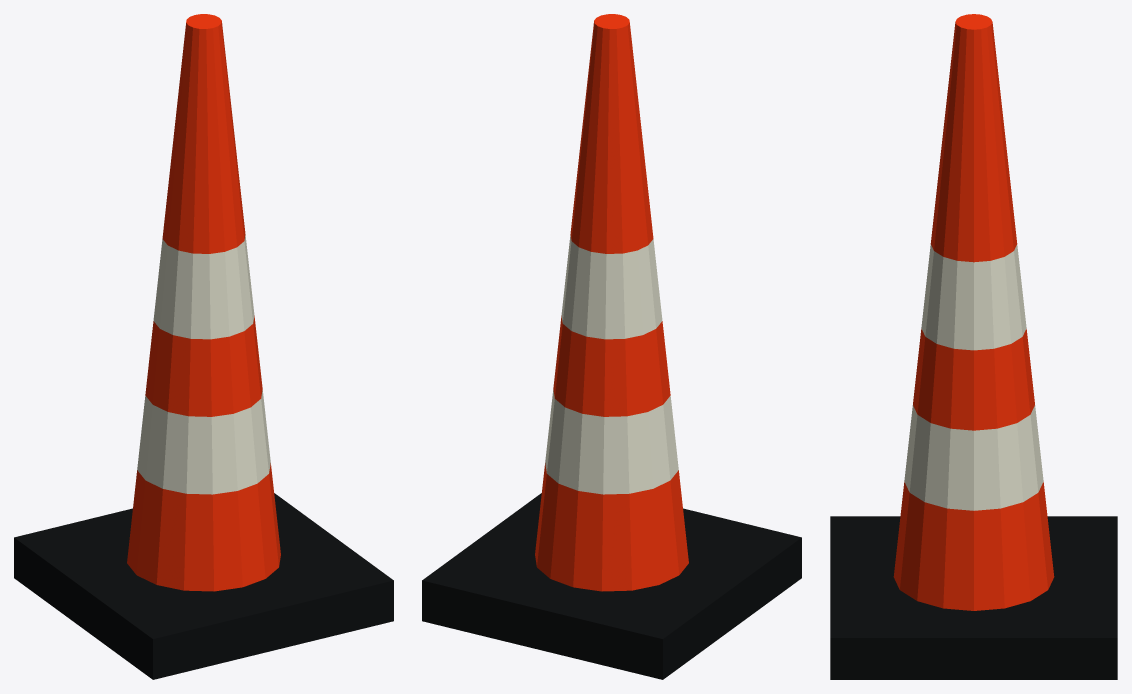
The model's file is pylon.dae.
3 renders of one model, left to right at view 1: azimuth 30°, elevation 25°; view 2: azimuth 150°, elevation 25°; view 3: azimuth 270°, elevation 25°, orthographic. The views are drawn at different scales.
Parts seen in each view (by area): view 1: pylon; view 2: pylon; view 3: pylon.
Part boxes in pixels (left/top/right/bottom): pylon: left=14, top=14, right=393, bottom=679; pylon: left=422, top=14, right=801, bottom=679; pylon: left=830, top=14, right=1117, bottom=679.
Bounding box in the file's own units: 0.34 × 0.34 × 0.78.
